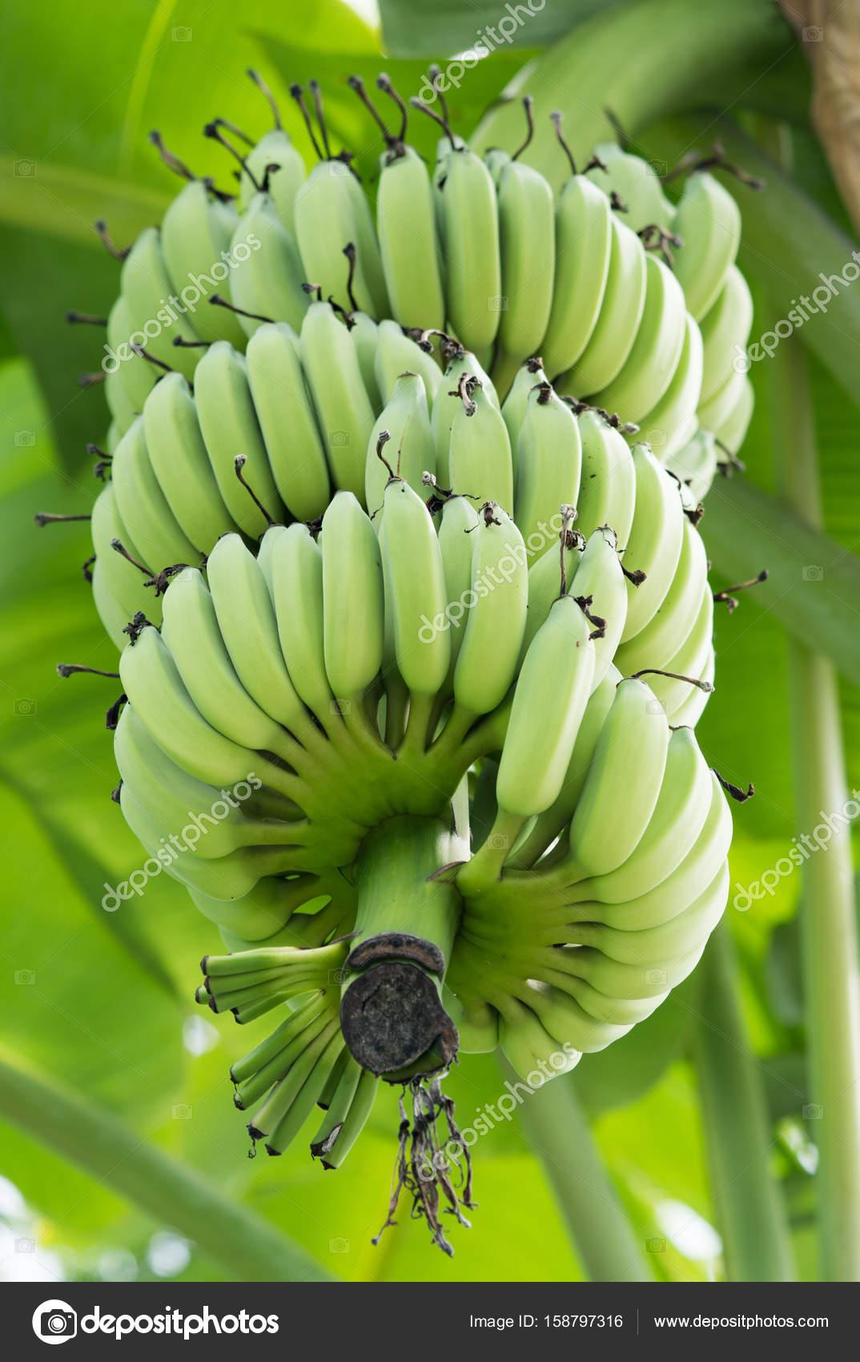Banana Unripe: (28, 24, 793, 1234)
